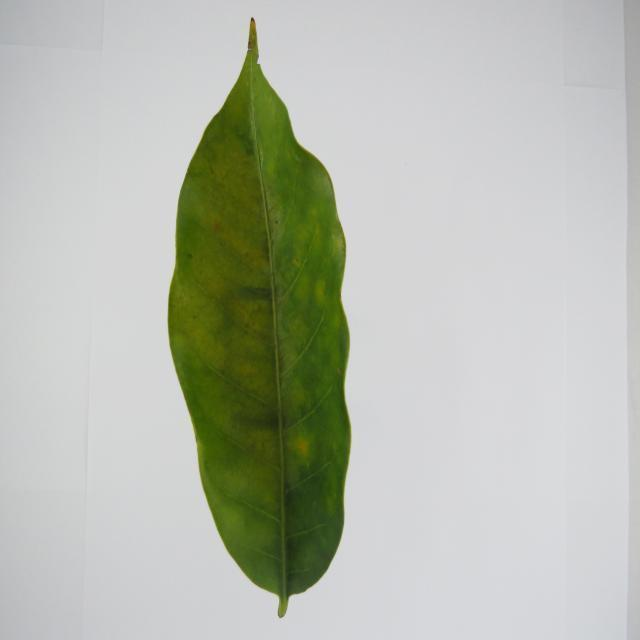DeficienciaNutricional-Calcio: (169, 20, 350, 617)
